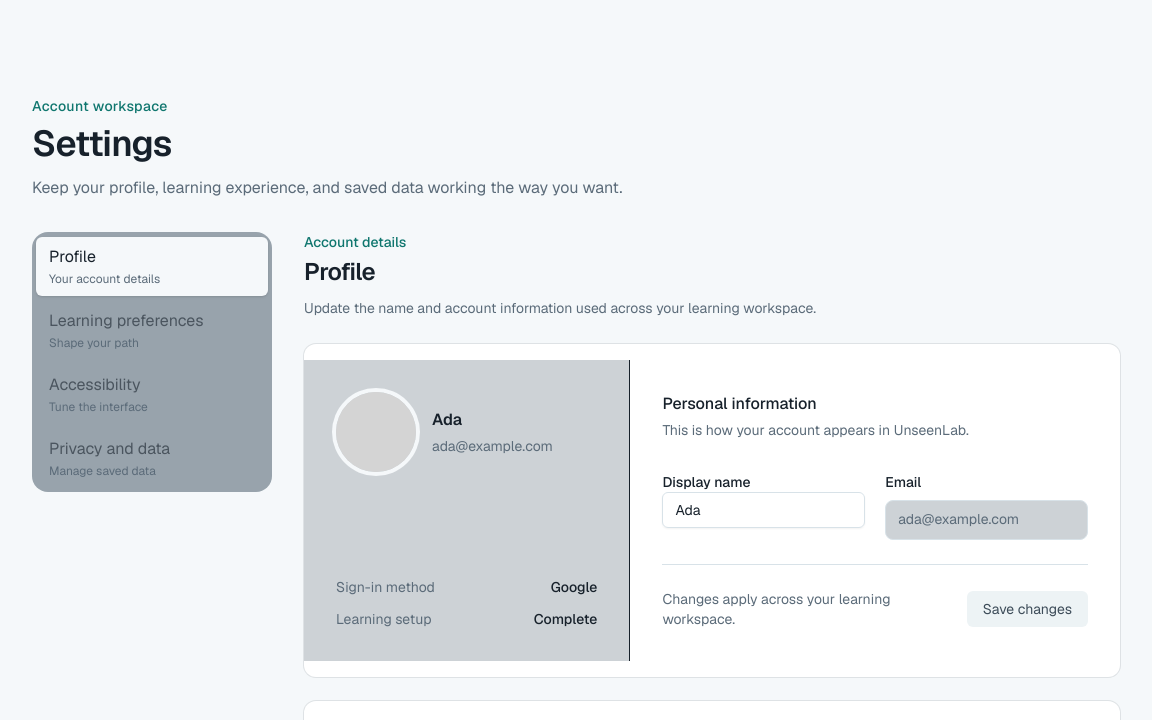
Test: Settings — Profile tab › shows the error state when saving fails
The image size is (1152, 720).
Replace the text in the field labelled "Display name" with "Ada X" at (764, 510), box [662,492,865,528]
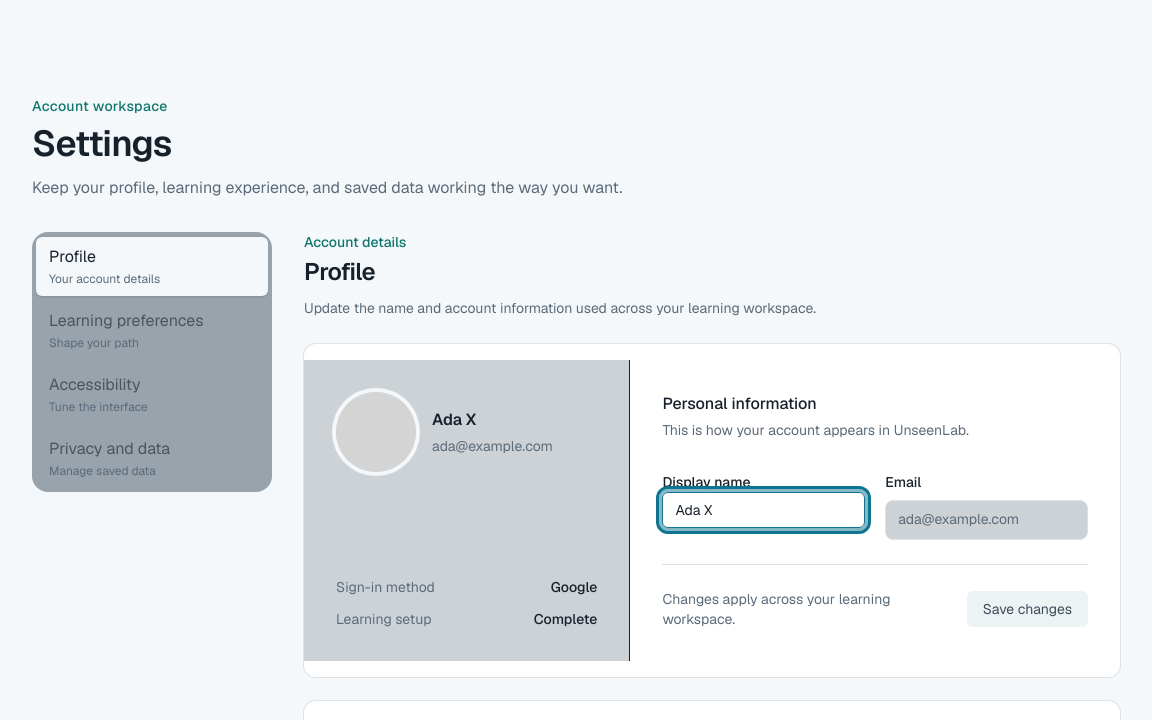
Click the button "Save changes" at (1027, 609), box [967,591,1088,627]
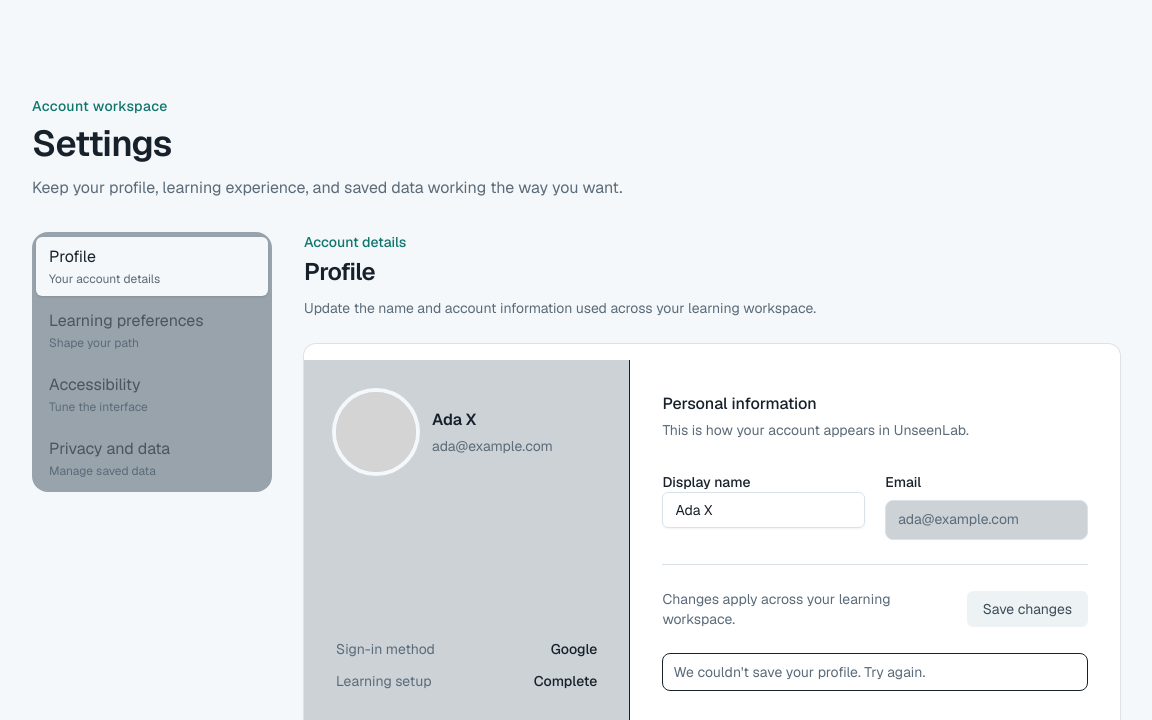
Expected: the text "We couldn't save your profile. Try again." is shown, [673,663,925,681]
